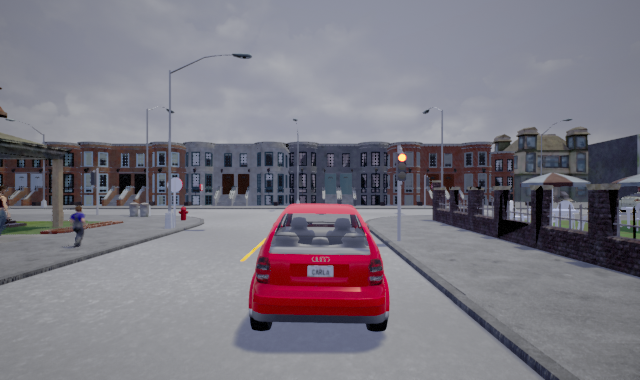pedestrian: (69, 201, 87, 248)
vehicle: (247, 202, 390, 333), (618, 189, 640, 212)
